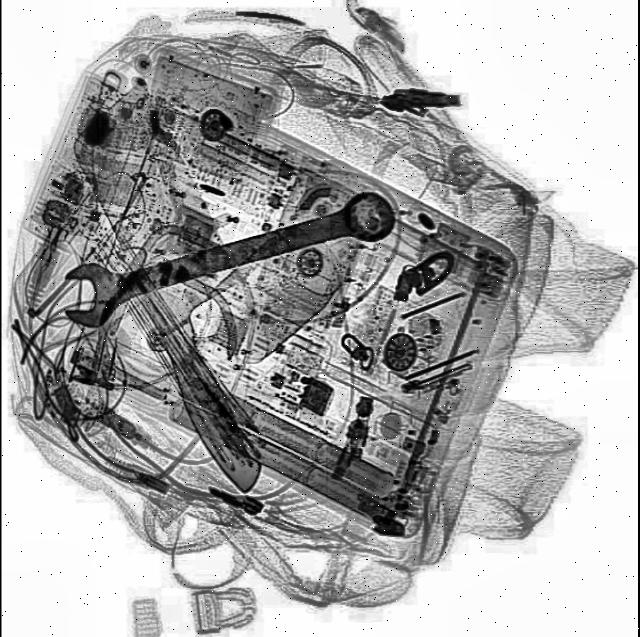Knife: (59, 74, 320, 502)
Wrench: (56, 176, 403, 339)
